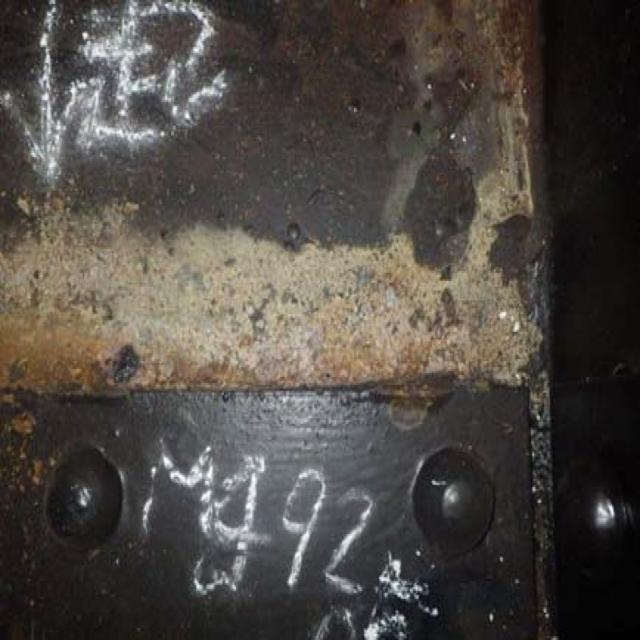corrosion: (17, 358, 547, 633), (37, 37, 547, 319)
